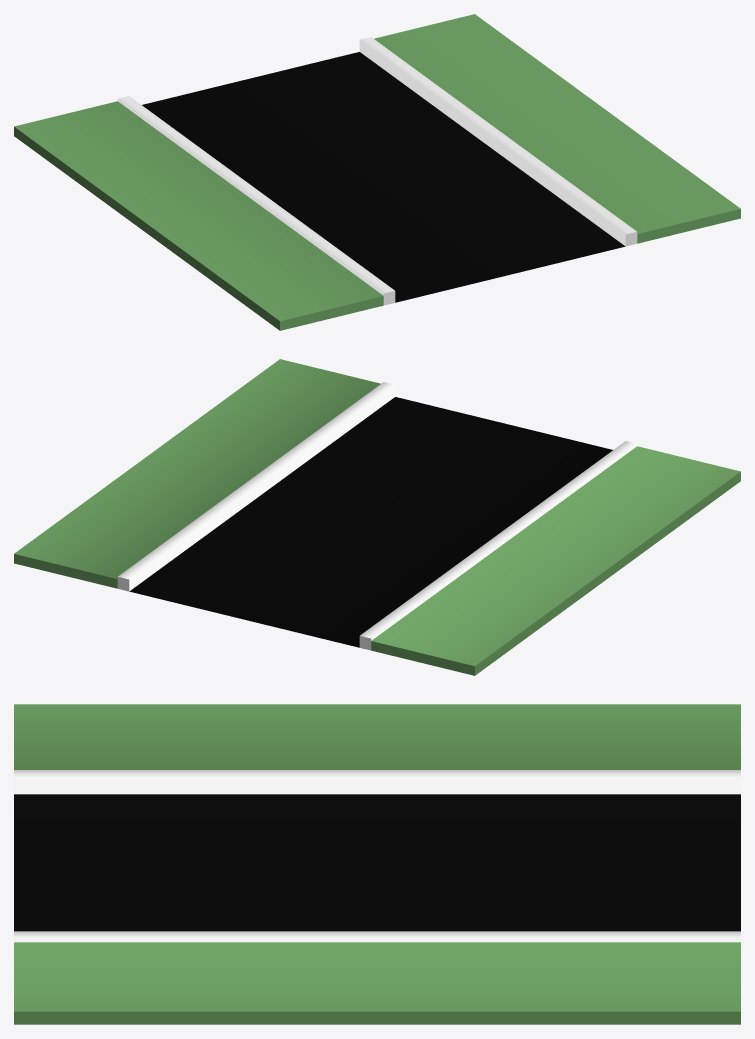
The model's file is Straight.glb.
3 renders of one model, top to bottom at view 1: azimuth 30°, elevation 25°; view 2: azimuth 150°, elevation 25°; view 3: azimuth 270°, elevation 25°, orthographic. The views are drawn at different scales.
Parts seen in each view (by area): view 1: Straight; view 2: Straight; view 3: Straight.
Part boxes in pixels (x1,y1,x2,y2): Straight: (14,14,740,330); Straight: (14,359,740,675); Straight: (14,704,740,1024).
Size of the model in its own units: 10 by 0.25 by 10.
Materials: 1 (1 with a texture image).
